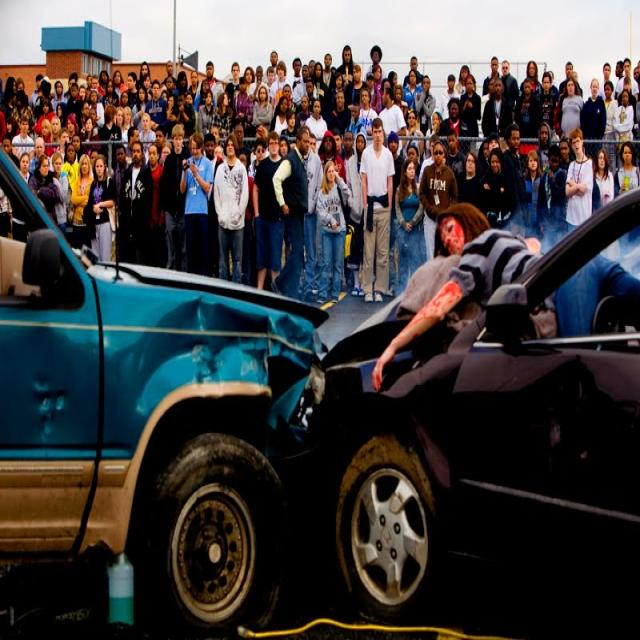crush: (103, 265, 327, 469), (312, 291, 466, 500)
